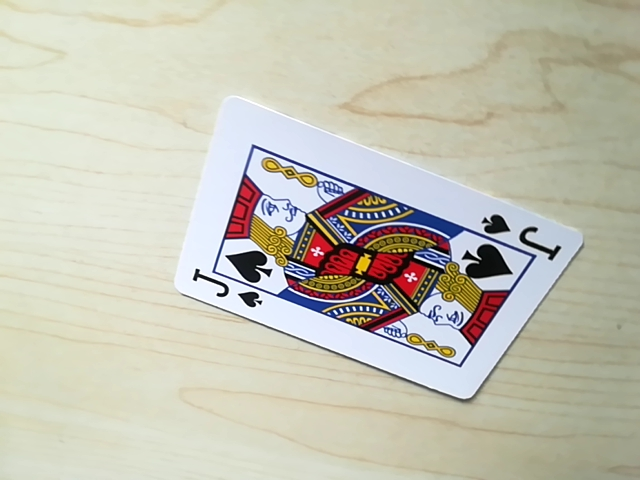ht j: (473, 207, 554, 250), (187, 278, 265, 315)
